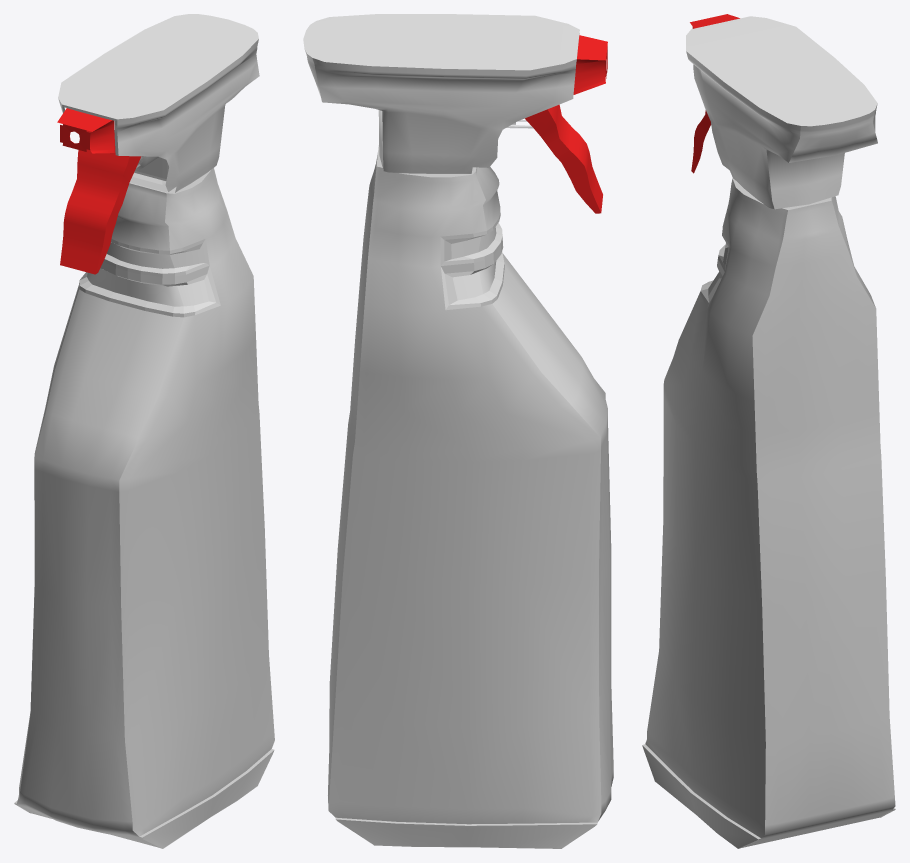
The model's file is asset.glb.
3 renders of one model, left to right at view 1: azimuth 30°, elevation 25°; view 2: azimuth 150°, elevation 25°; view 3: azimuth 270°, elevation 25°, orthographic. The views are drawn at different scales.
Parts seen in each view (by area): view 1: C-Ext002_node; view 2: C-Ext002_node; view 3: C-Ext002_node.
Boxes of the visible parts, x1,y1,x2,y2 form: C-Ext002_node: [14, 14, 274, 848]; C-Ext002_node: [303, 14, 613, 848]; C-Ext002_node: [642, 14, 895, 848].
Bounding box in the file's own units: 6.81 × 18.5 × 5.76.
